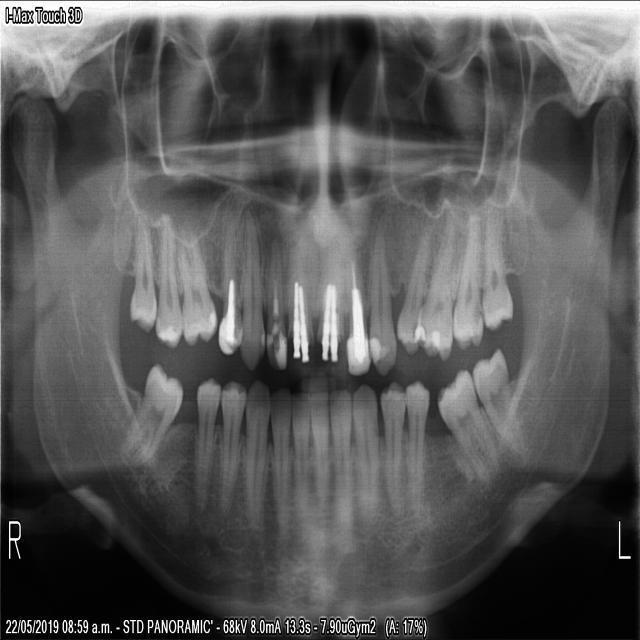LCD: (351, 376, 383, 513)
LCU: (367, 241, 399, 377)
LID: (327, 382, 352, 511), (310, 387, 330, 486)
LIU: (341, 251, 370, 380), (316, 241, 343, 375)
LMD: (432, 361, 497, 488), (469, 338, 524, 457)
LMU: (451, 217, 485, 352), (478, 211, 514, 331)
LPMD: (401, 373, 431, 520), (379, 377, 405, 513)
LPMU: (412, 209, 468, 360), (394, 217, 440, 356)
RCD: (241, 376, 269, 542)
RCU: (236, 222, 265, 374)
RID: (268, 388, 291, 544), (291, 382, 313, 502)
RIU: (284, 234, 312, 370), (261, 242, 285, 376)
RMD: (134, 358, 184, 455)
RMU: (150, 214, 181, 352), (124, 214, 155, 337)
RPMD: (216, 372, 247, 514), (193, 370, 222, 510)
RPMU: (174, 237, 217, 349), (213, 237, 244, 358)
